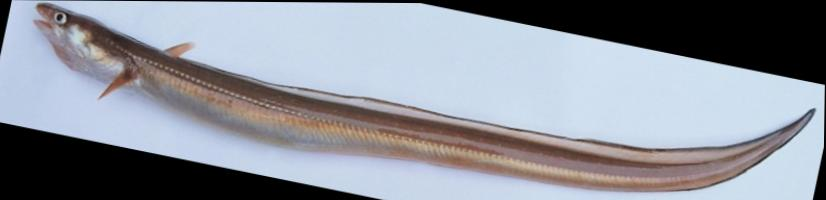fish: (34, 4, 815, 190)
